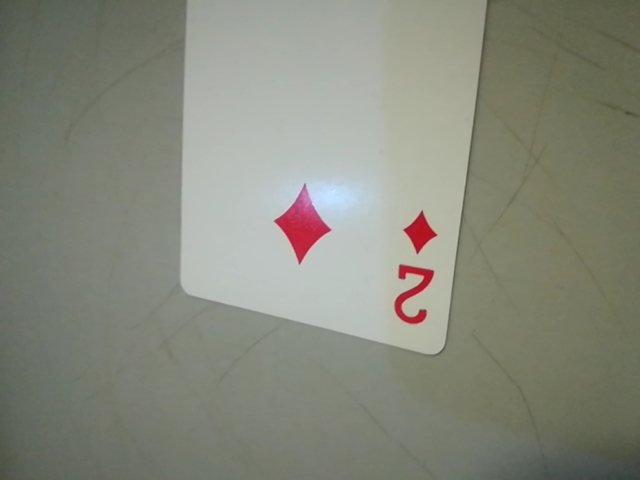fk 2: (380, 200, 447, 340)
